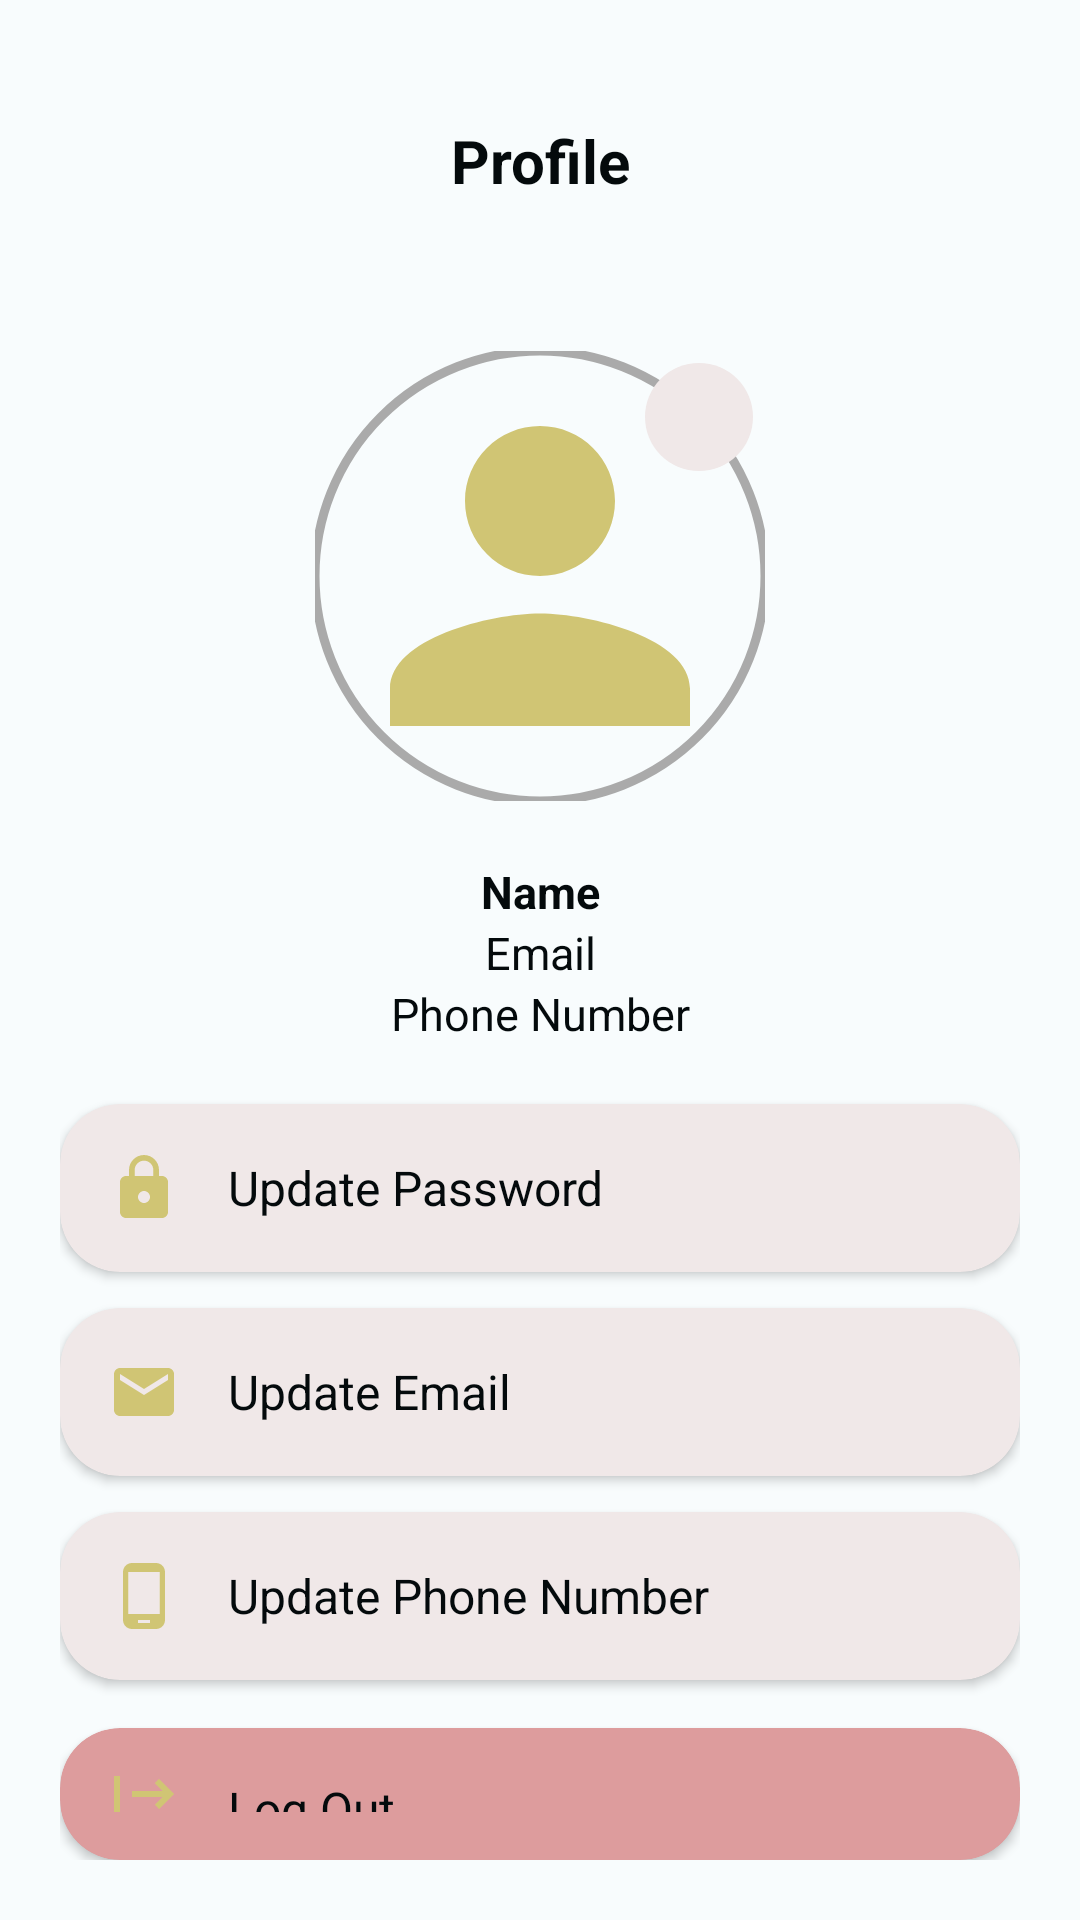

Icon click points for this 1080w x 1920h phone screenshot, format point (x, y):
signout: point (144, 1794)
